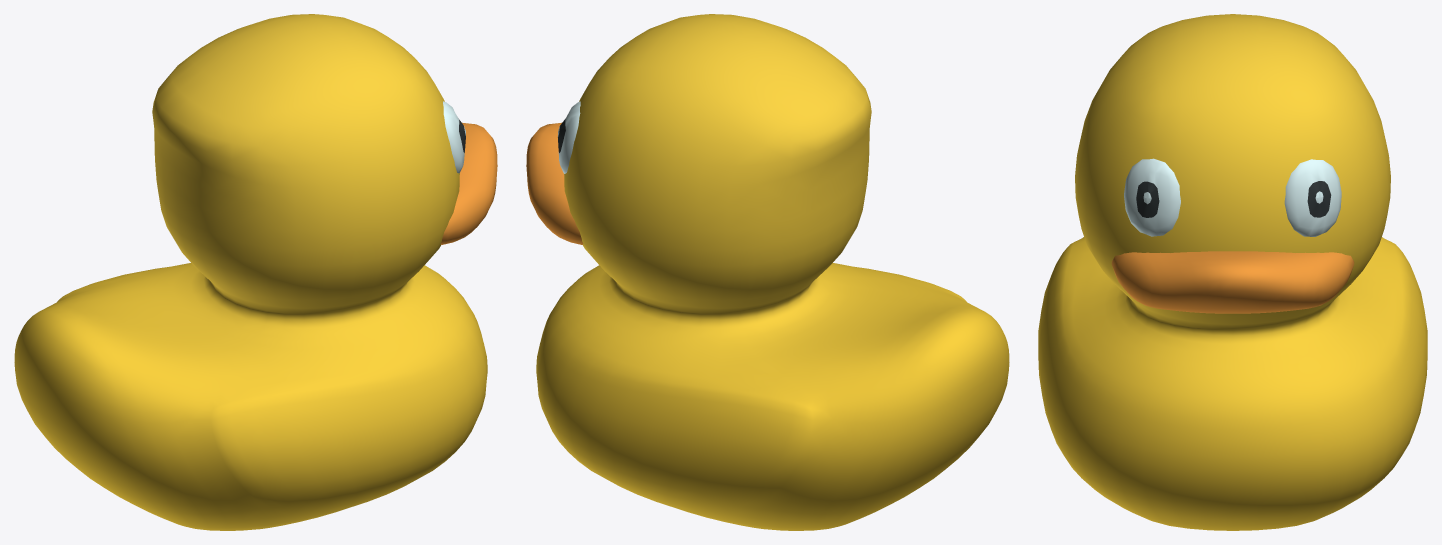
File: Rubber Ducky.fbx
The picture shows the model from 3 angles, left to right: view 1: azimuth 30°, elevation 25°; view 2: azimuth 150°, elevation 25°; view 3: azimuth 270°, elevation 25°; orthographic projection. The views are drawn at different scales.
Visible parts, largest first — view 1: Rubber_Duck; view 2: Rubber_Duck; view 3: Rubber_Duck.
Part boxes in pixels (box(x1,y1,x2,y2)): Rubber_Duck: box(14, 14, 497, 530); Rubber_Duck: box(526, 14, 1009, 530); Rubber_Duck: box(1038, 14, 1427, 530).
Bounding box in the file's own units: 8.53 × 8.27 × 6.1.
Materials: 1 (1 with a texture image).
